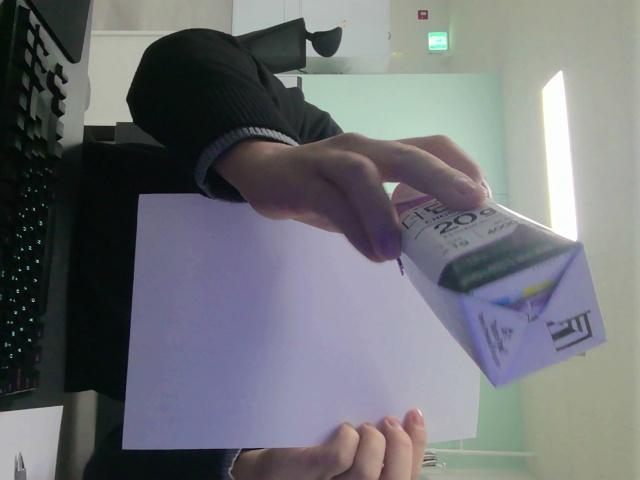milk: (398, 195, 596, 384)
